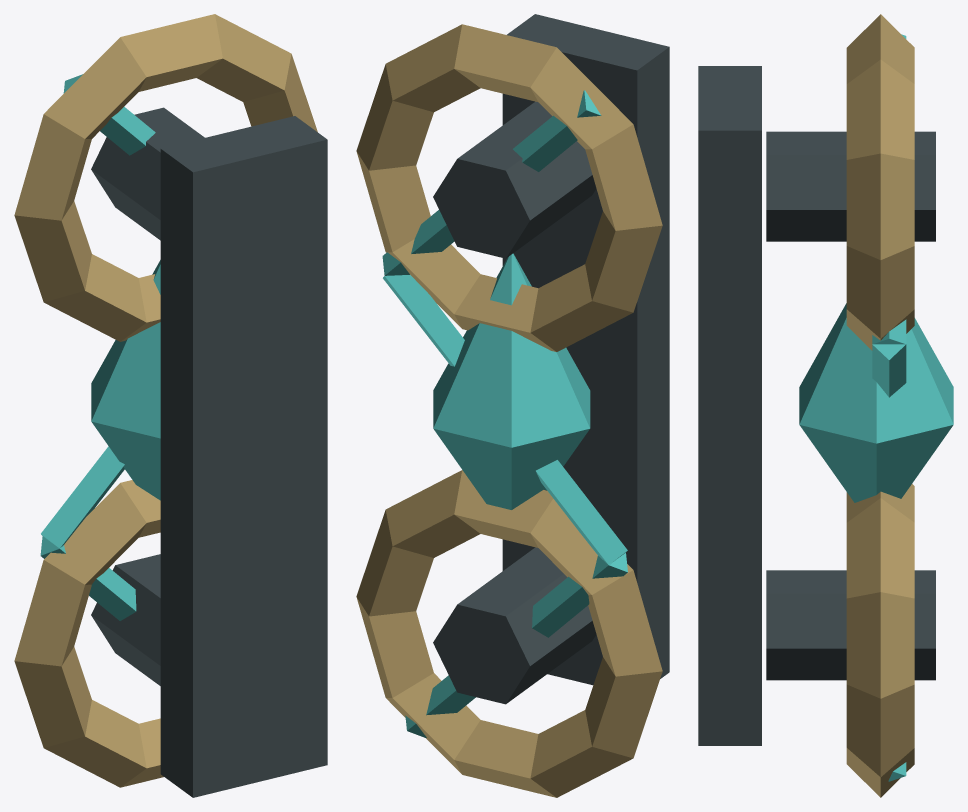
Rendered from Socket_737.fbx.
The picture shows the model from 3 angles, left to right: view 1: azimuth 30°, elevation 25°; view 2: azimuth 150°, elevation 25°; view 3: azimuth 270°, elevation 25°; orthographic projection.
Visible parts, largest first — view 1: Socket_737; view 2: Socket_737; view 3: Socket_737.
Part boxes in pixels (left/top/right/bottom): Socket_737: left=14, top=14, right=327, bottom=797; Socket_737: left=356, top=14, right=669, bottom=797; Socket_737: left=698, top=14, right=953, bottom=797.
Bounding box in the file's own units: 0.082 × 0.192 × 0.0602.
